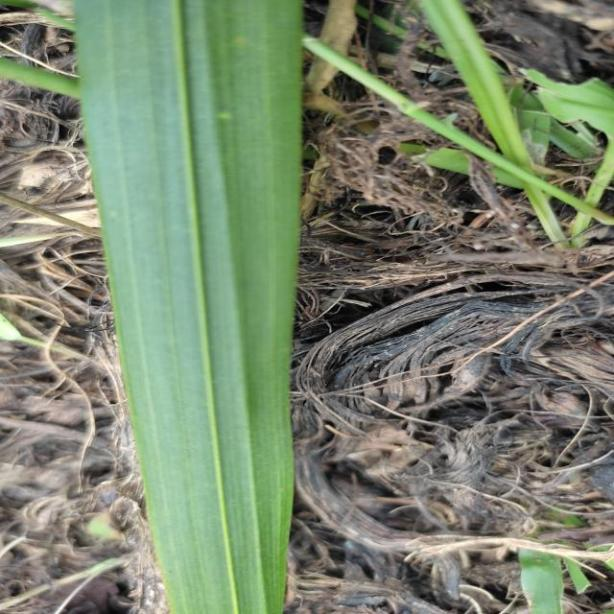Healthy: (77, 0, 300, 614)
